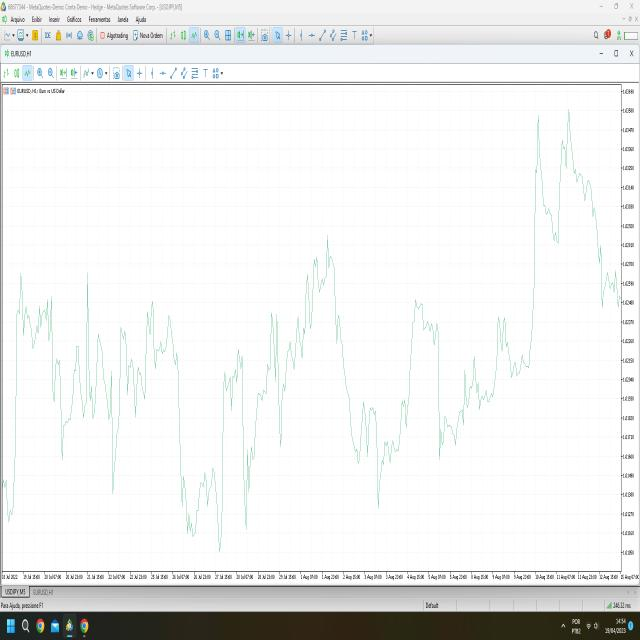topo_duplo: (524, 87, 606, 324)
